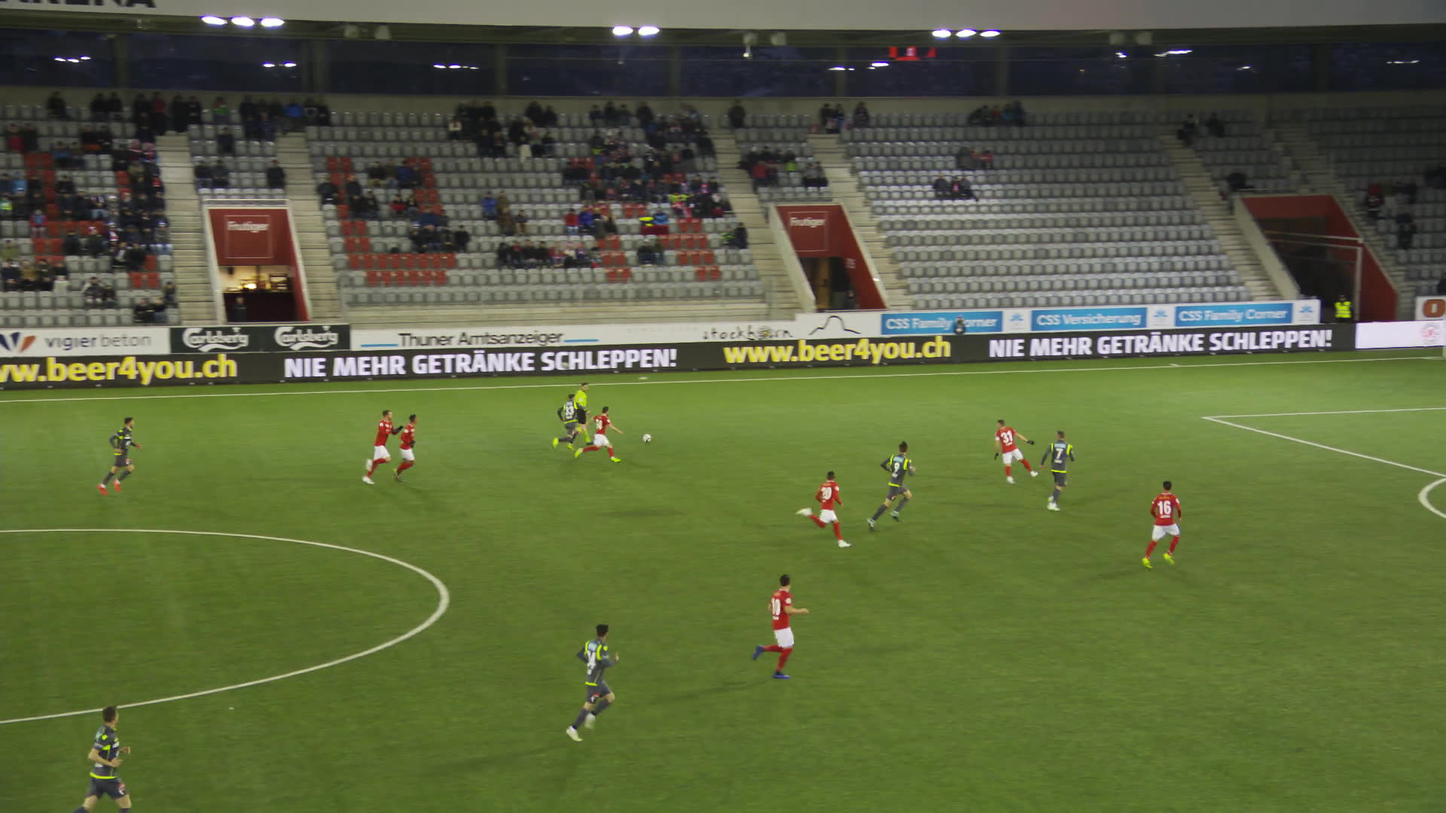ball: (640, 434, 651, 444)
player: (69, 705, 133, 812), (749, 572, 809, 680), (567, 625, 620, 741), (795, 470, 851, 550), (868, 441, 917, 531), (102, 416, 143, 497), (991, 416, 1038, 485), (1146, 482, 1183, 569), (1039, 430, 1077, 511), (361, 410, 401, 483), (574, 405, 620, 463), (554, 394, 587, 457), (393, 415, 423, 483)
referee: (570, 382, 594, 449)
